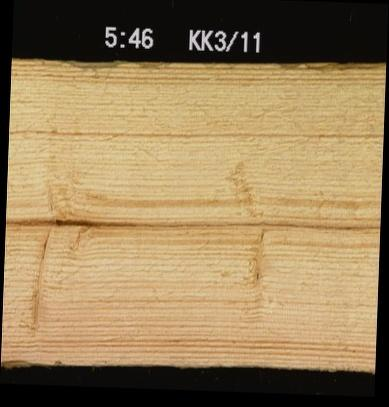split: (4, 217, 379, 232)
wave: (10, 57, 125, 66)
